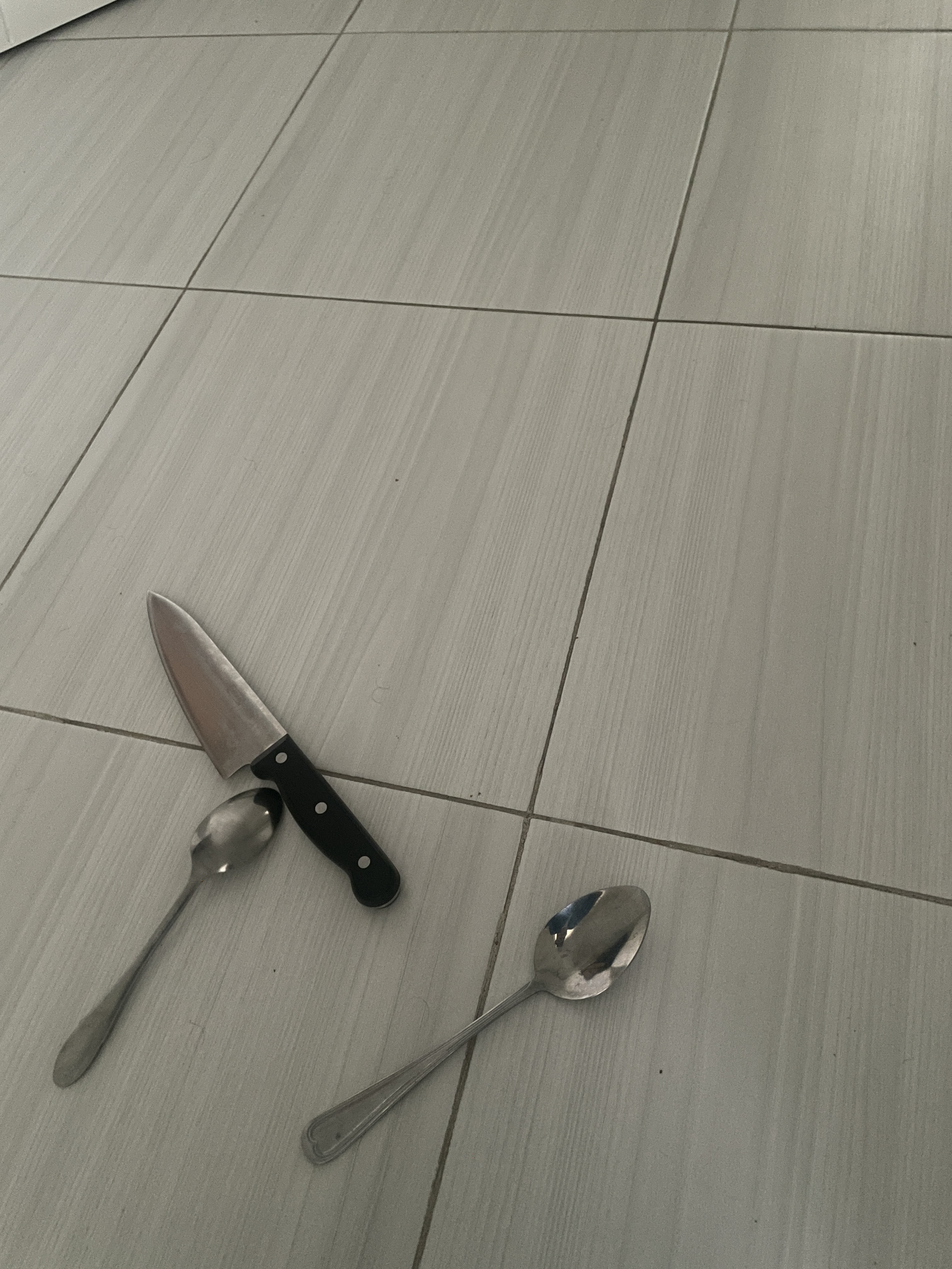knife: (143, 591, 400, 910)
spoon: (298, 883, 652, 1165), (53, 788, 280, 1088)
